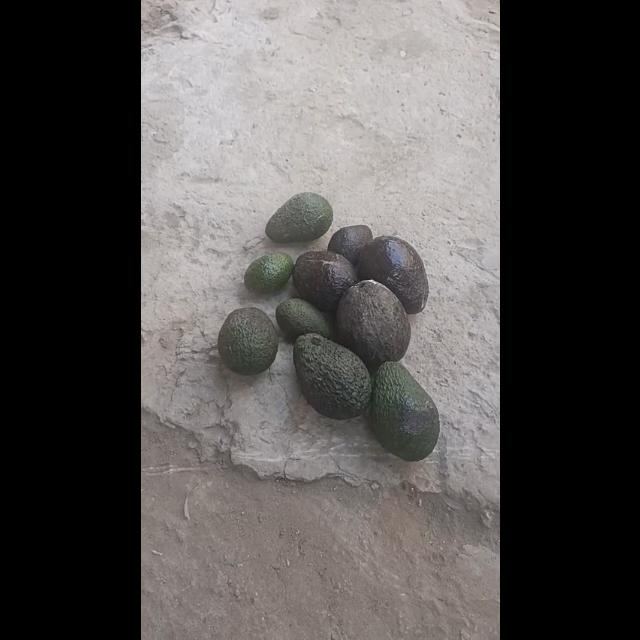Primera: (368, 359, 439, 458), (334, 280, 410, 368), (292, 334, 370, 418), (355, 234, 427, 314), (291, 249, 357, 311)
Segunda: (216, 306, 278, 374), (265, 191, 333, 243)
Tercera: (275, 298, 331, 342), (243, 252, 293, 294), (326, 224, 374, 266)
